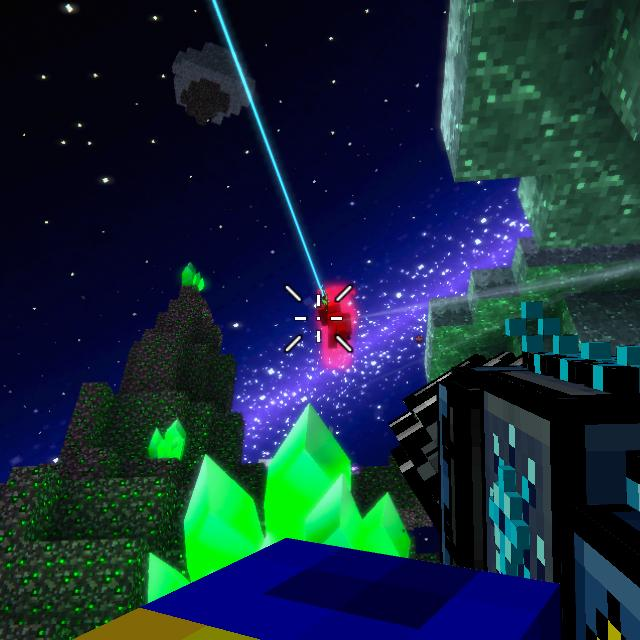Enemy: (322, 300, 355, 369)
